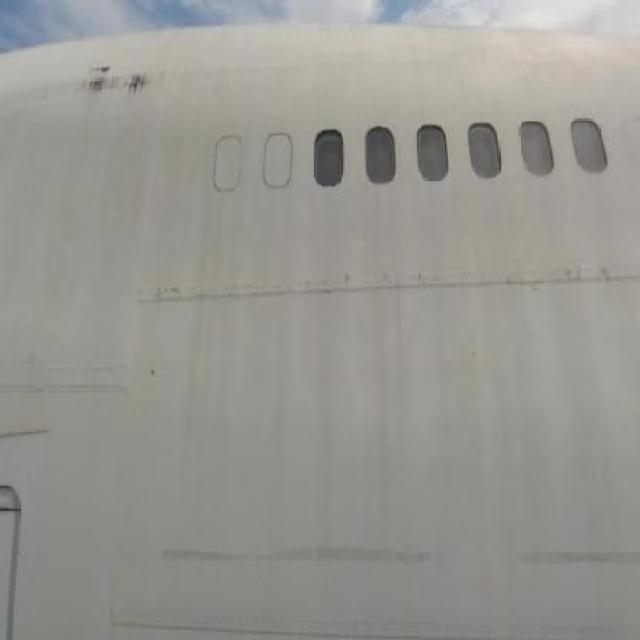Rust: (77, 56, 169, 133)
Scartch: (159, 525, 639, 577), (555, 259, 622, 295)
